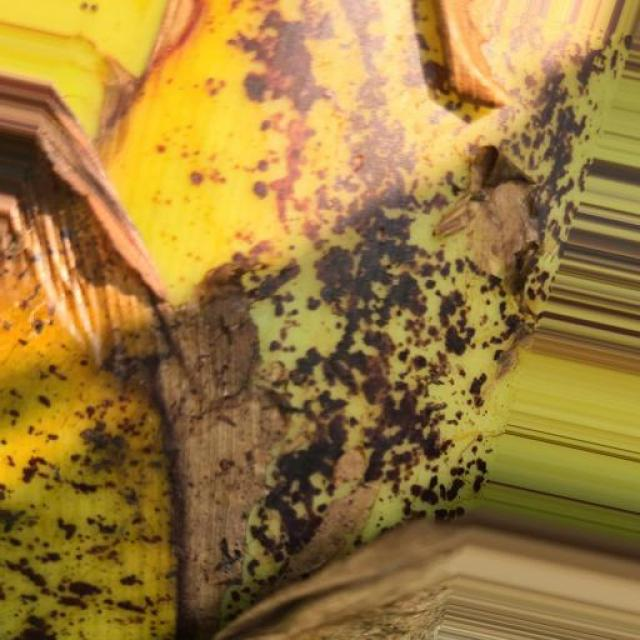Anthracnose: (5, 4, 610, 640)
